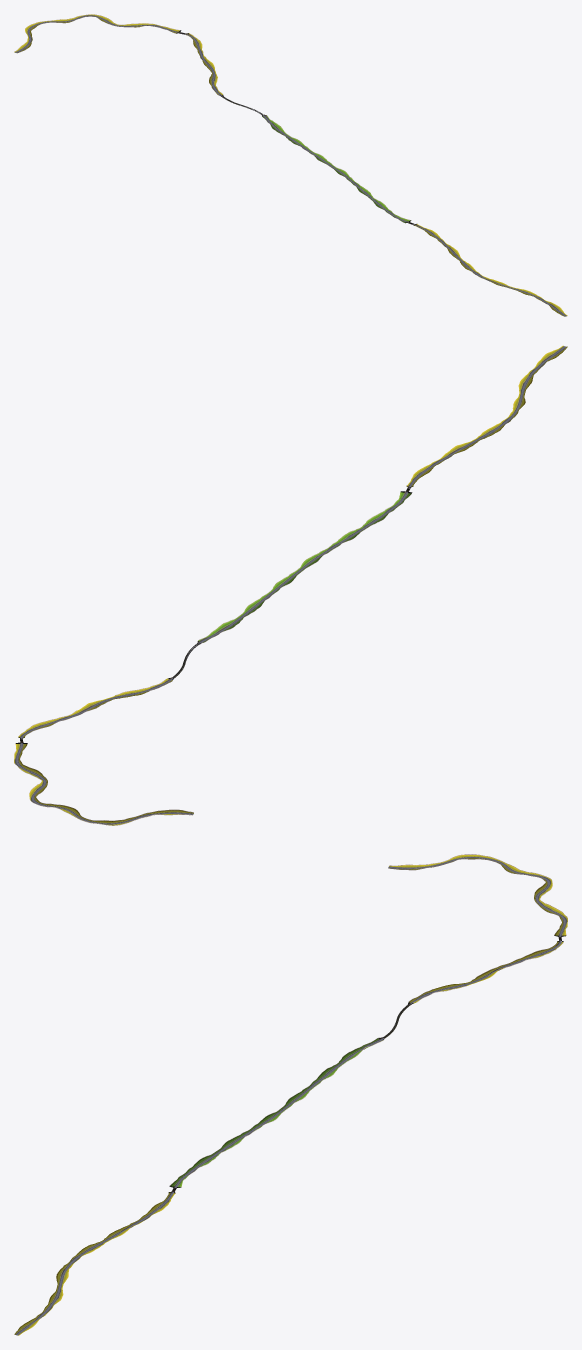
The model's file is course-cy1.glb.
3 views of the same model, one above another, from view 1: azimuth 30°, elevation 25°; view 2: azimuth 150°, elevation 25°; view 3: azimuth 330°, elevation 25° (orthographic). The views are drawn at different scales.
Visible parts, largest first — view 1: course-cy1; view 2: course-cy1; view 3: course-cy1.
Part boxes in pixels (x1,y1,x2,y2): course-cy1: (14, 14, 567, 316); course-cy1: (14, 345, 567, 825); course-cy1: (14, 854, 567, 1335).
Bounding box in the file's own units: 1942 × 35.1 × 9656.
Materials: 56 (56 with a texture image).
